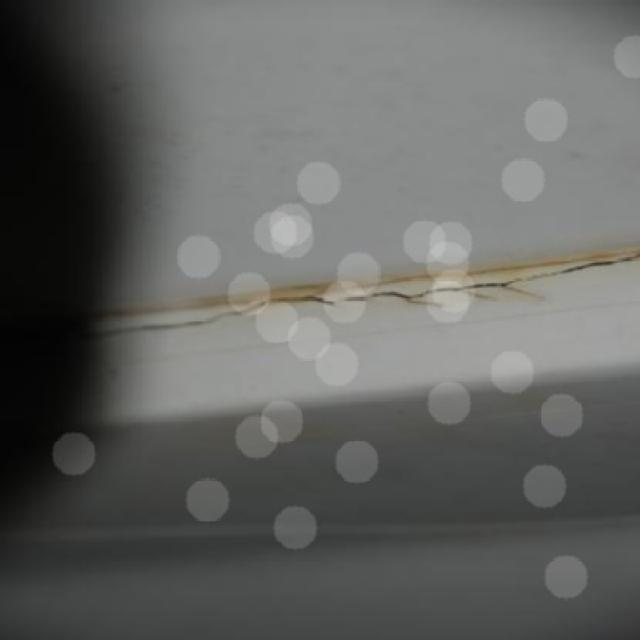crack: (514, 259, 633, 282), (254, 291, 399, 305), (406, 282, 512, 301), (176, 305, 251, 325), (97, 320, 174, 337)
